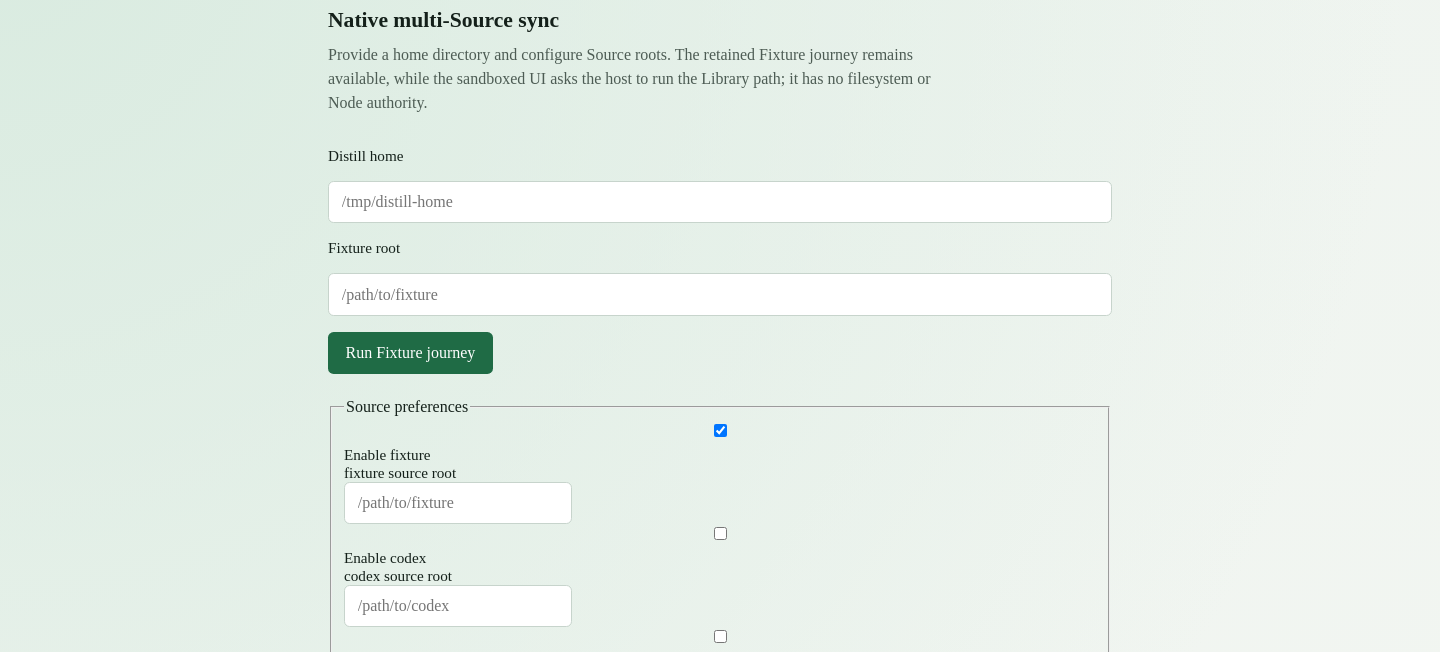
Test case: App multi-source Sync preferences › persists selected codex and opencode roots and renders safe warning details
Step 1. Type "/tmp/home" into the field labelled "Distill home" → coordinates (720, 202), box [328,181,1112,223]
Step 2. Click the checkbox with test id "source-enabled-fixture" → coordinates (720, 431), box [348,424,1093,437]
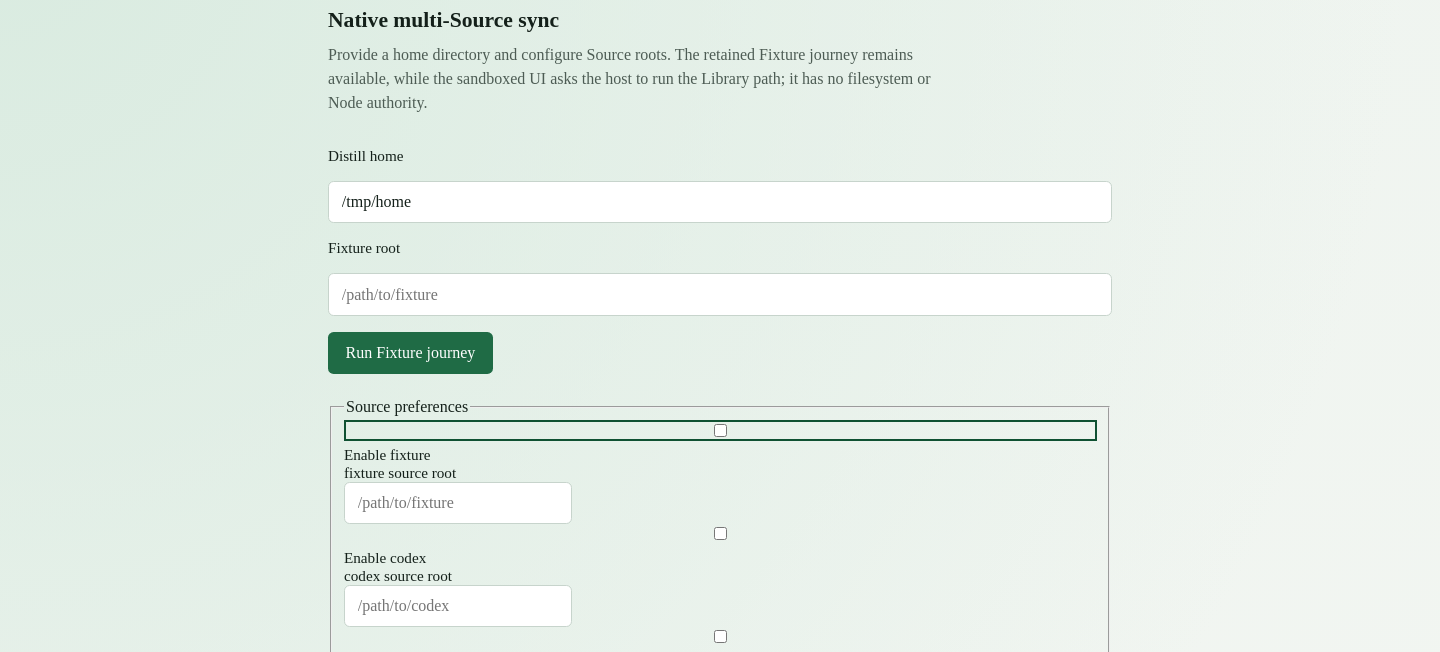
Step 3. Click the checkbox with test id "source-enabled-codex" → coordinates (720, 534), box [348,527,1093,540]
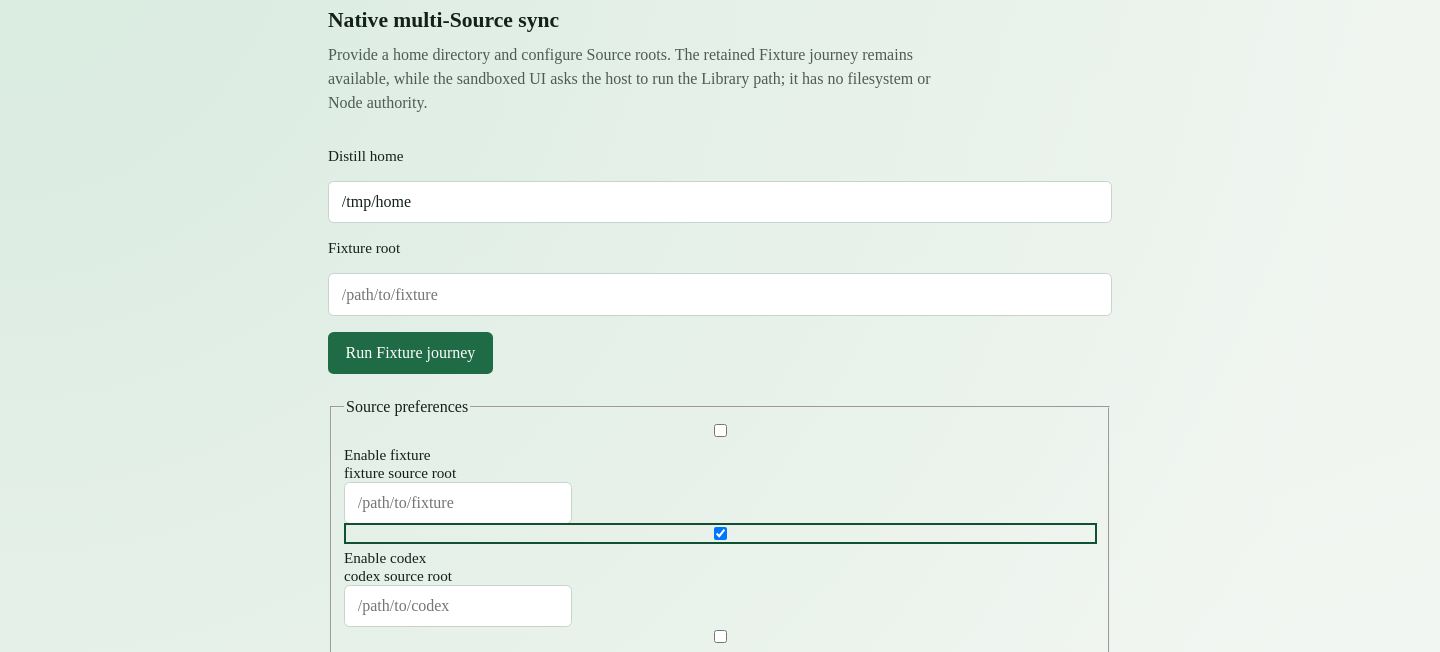
Step 4. Type "/tmp/codex-root" into the field with test id "source-root-codex" → coordinates (458, 606), box [344,585,572,627]
(page scrolled)
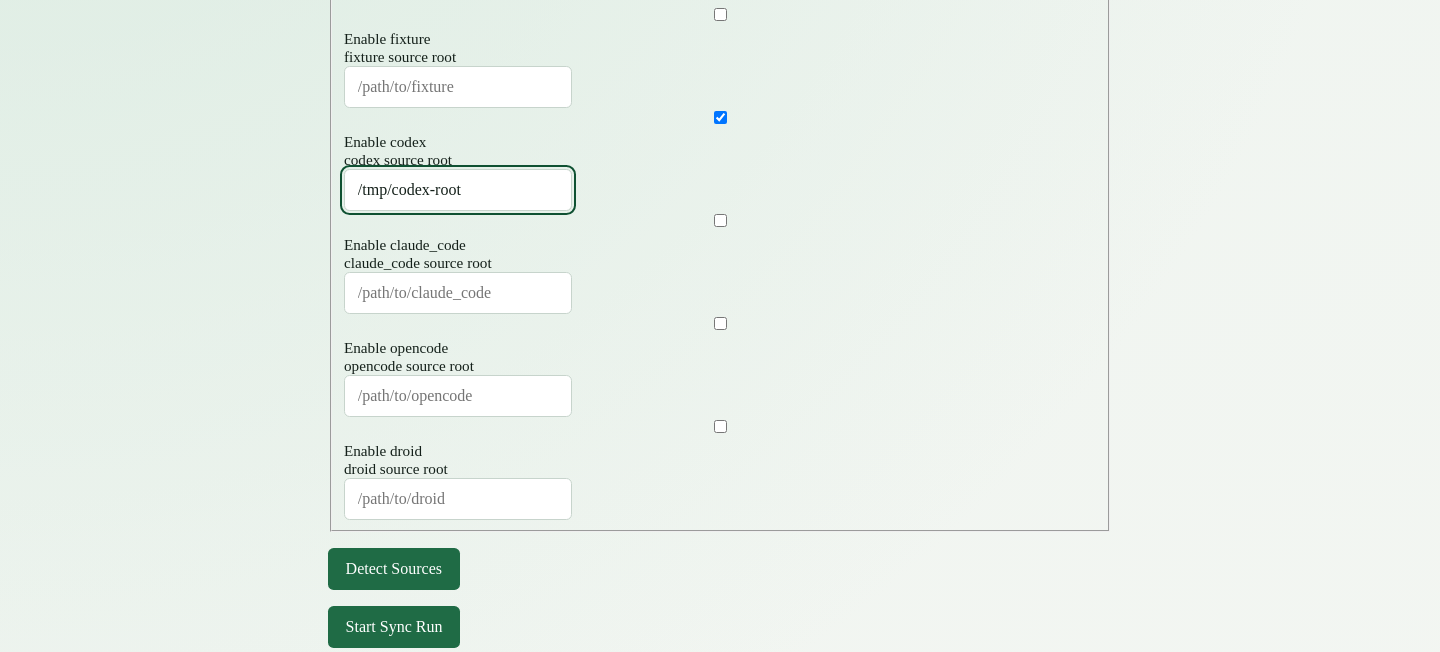
Step 5. Click the checkbox with test id "source-enabled-opencode" → coordinates (720, 324), box [348,317,1093,330]
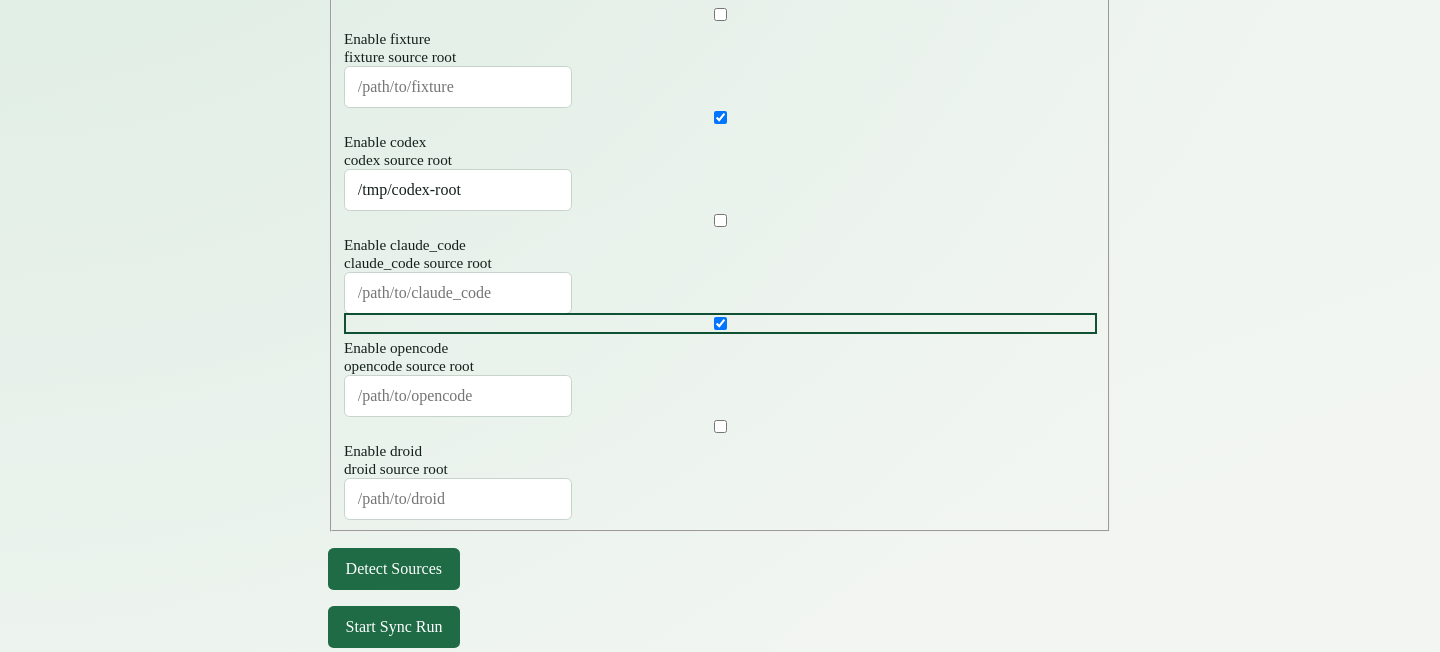
Step 6. Type "/tmp/opencode-root" into the field with test id "source-root-opencode" → coordinates (458, 396), box [344,375,572,417]
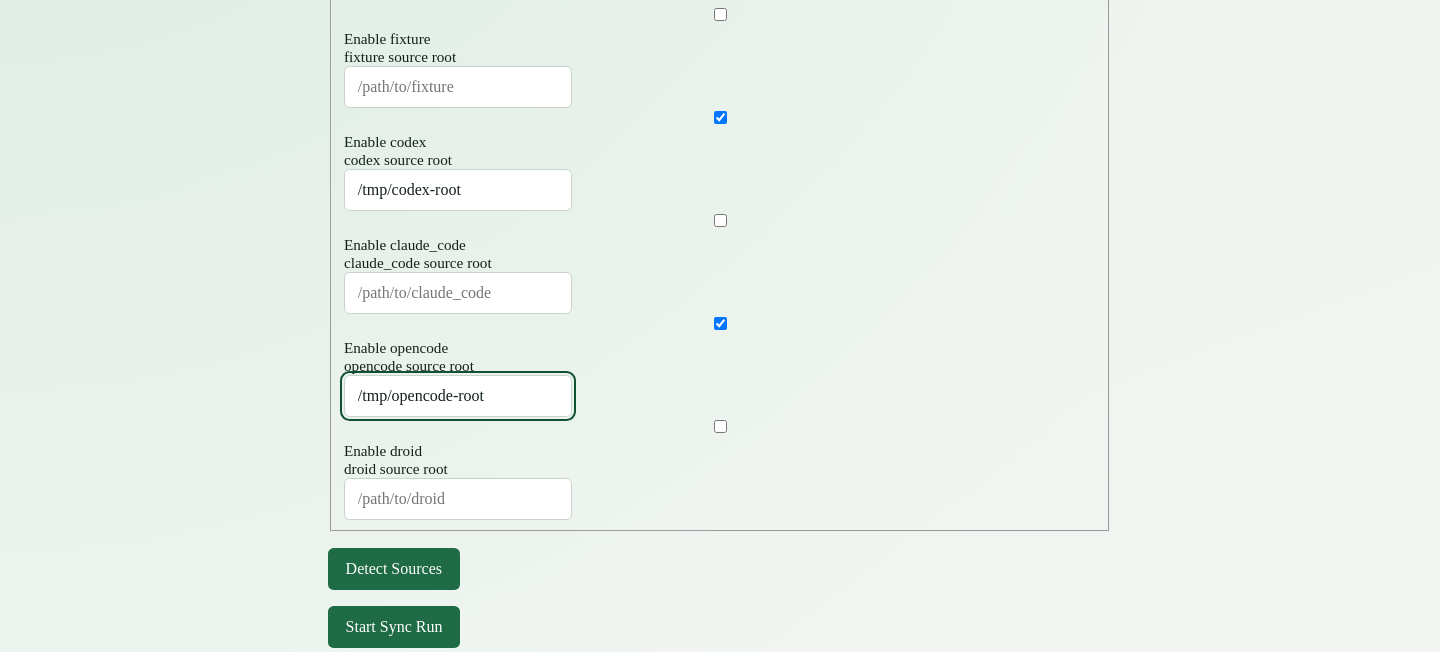
Step 7. Click the button "Start Sync Run" → coordinates (394, 627), box [328,606,460,648]
(page scrolled)
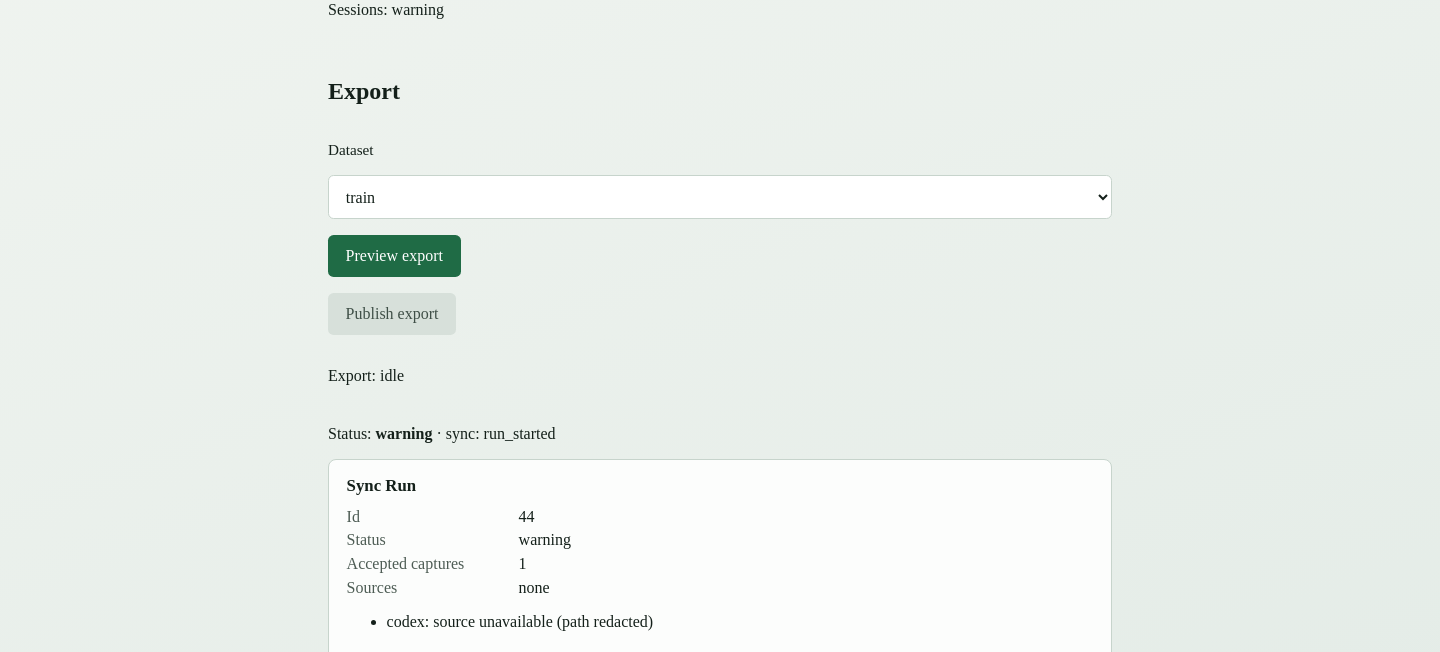
Expected: the text with test id "status" next to "· sync: run_started" reads "warning", [376,425,432,442]
Expected: the list with test id "sync-warning-details" reads "codex: source unavailable (path redacted)", [387,612,653,630]
